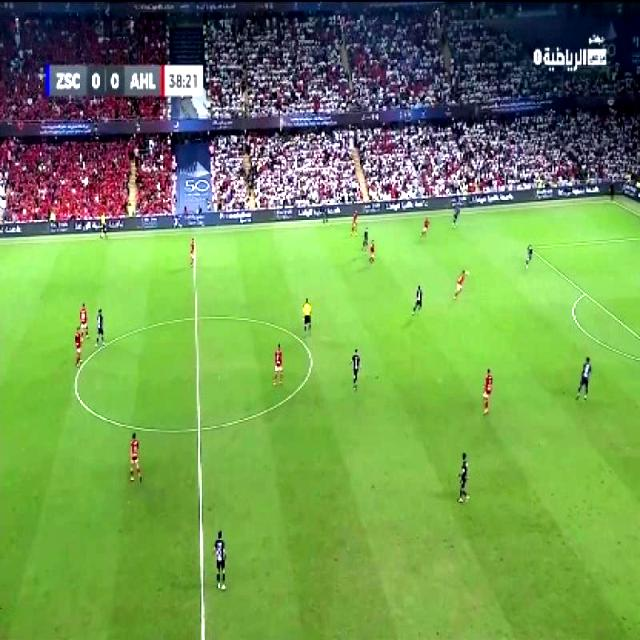corner: (601, 194, 616, 206)
halfcircle_bottom: (186, 414, 208, 442)
halfcircle_top: (185, 306, 205, 328)
midline_top_intersection: (187, 229, 201, 239)
top_arc_area_intersection: (579, 284, 591, 299)
